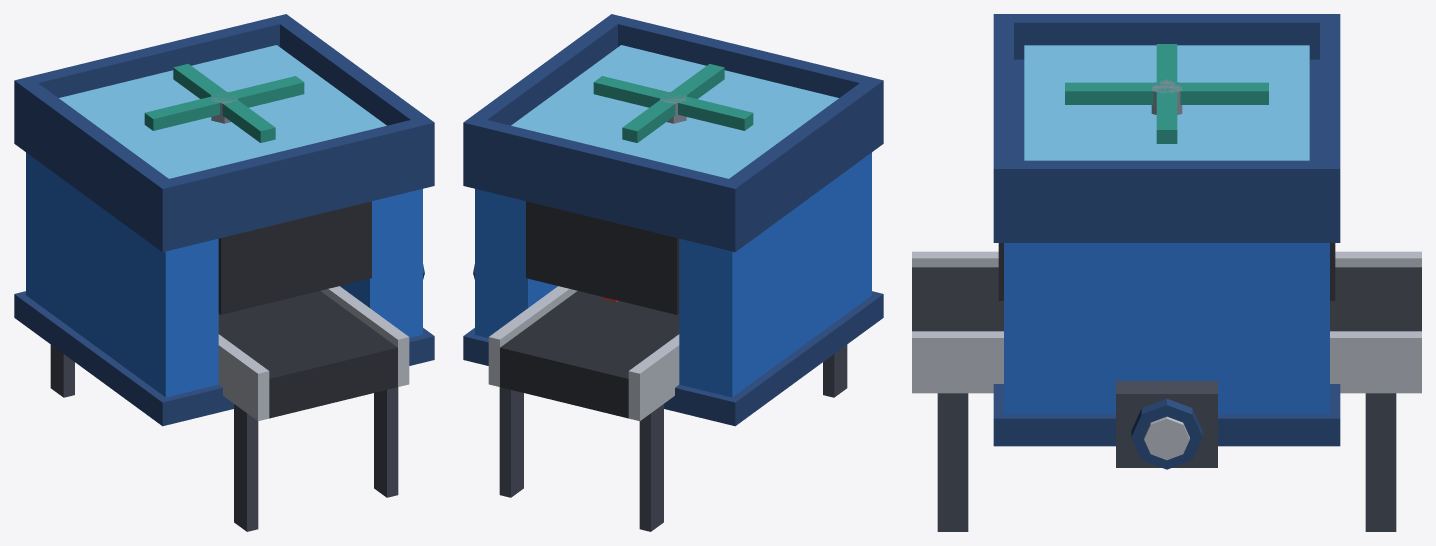
The model's file is washer.glb.
3 views of the same model, side by side, from view 1: azimuth 30°, elevation 25°; view 2: azimuth 150°, elevation 25°; view 3: azimuth 270°, elevation 25° (orthographic). The views are drawn at different scales.
Parts seen in each view (by area): view 1: washer, spin-up; view 2: washer, spin-up; view 3: washer, spin-up.
Part boxes in pixels (box(x1,y1,x2,y2)): washer: box(14, 14, 434, 531); spin-up: box(144, 63, 304, 142); washer: box(463, 14, 883, 531); spin-up: box(593, 63, 753, 142); washer: box(912, 14, 1421, 531); spin-up: box(1065, 44, 1268, 143).
Size of the model in its own units: 0.86 by 0.87 by 1.
Materials: 2 (2 with a texture image).
